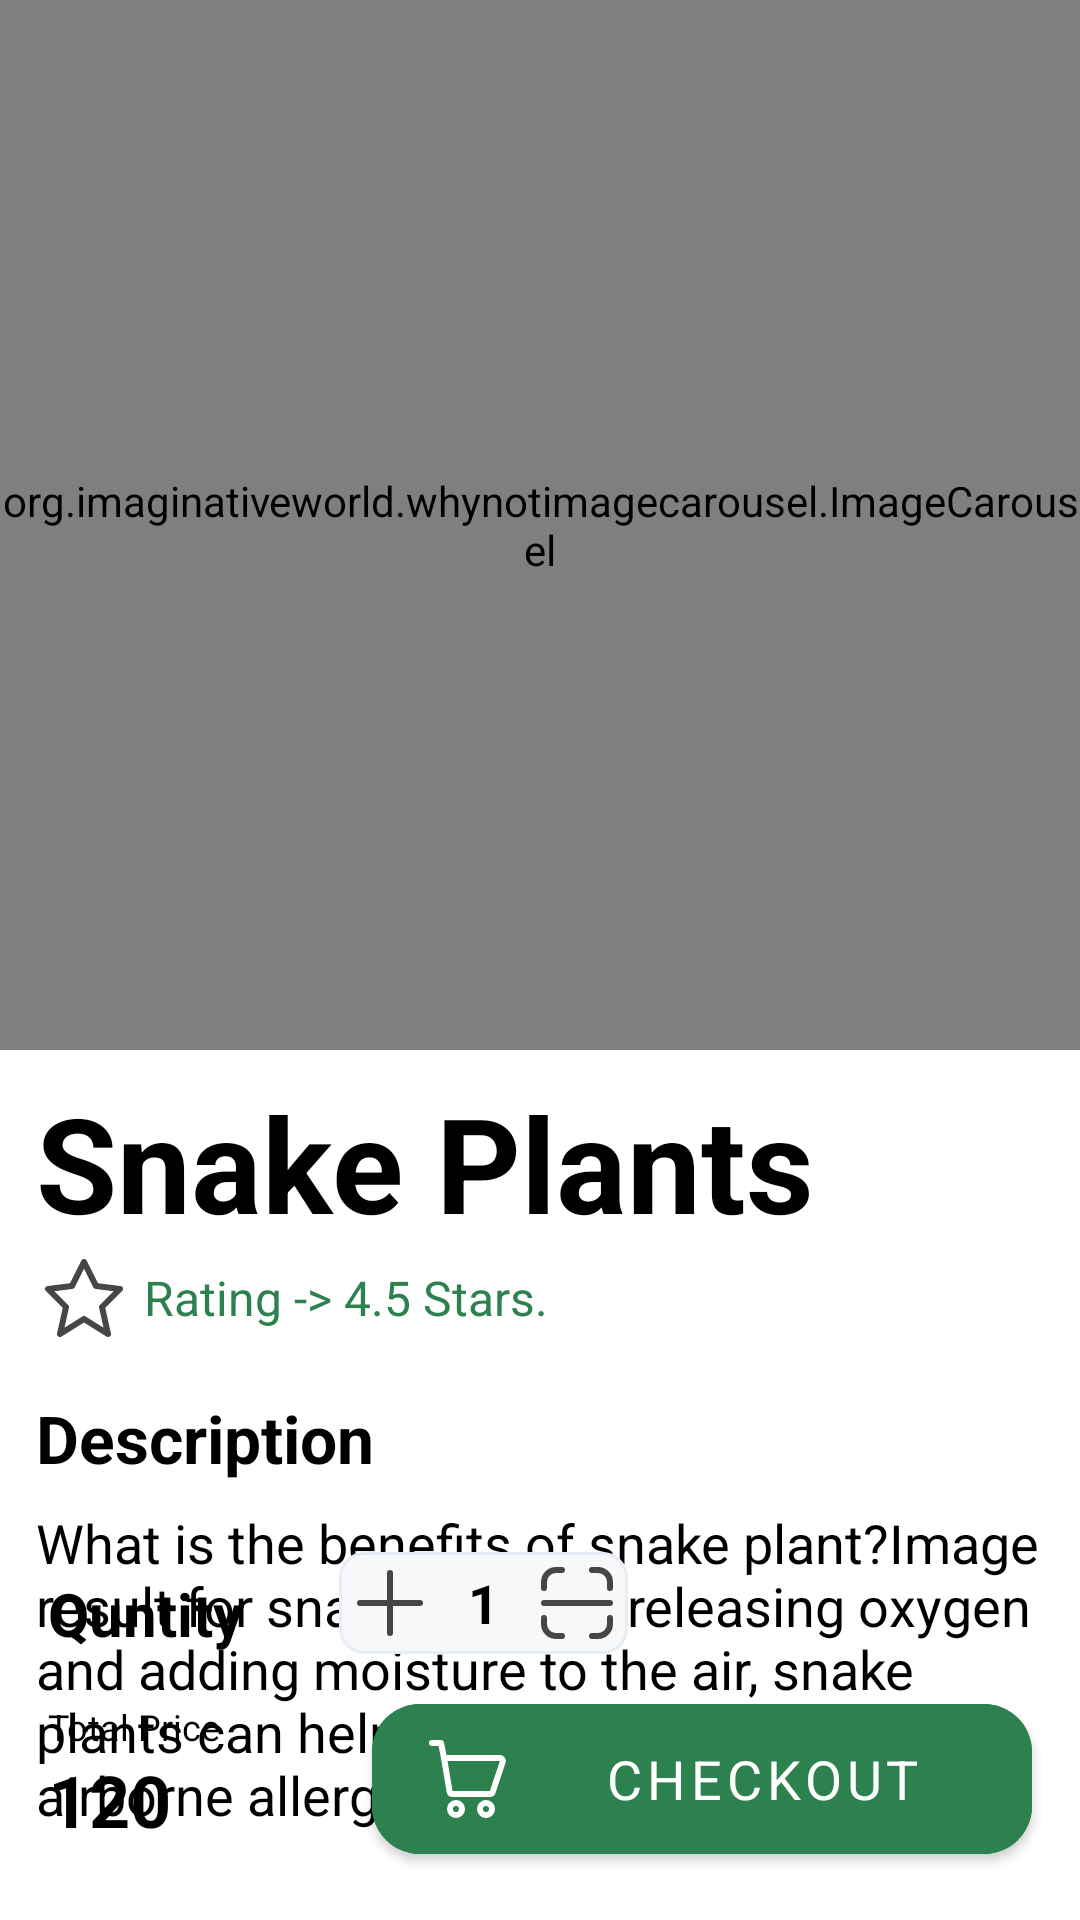

Icons on this 1080px×1920px Android screen, each with the point to tap as [x,y]:
add: [390,1603]
